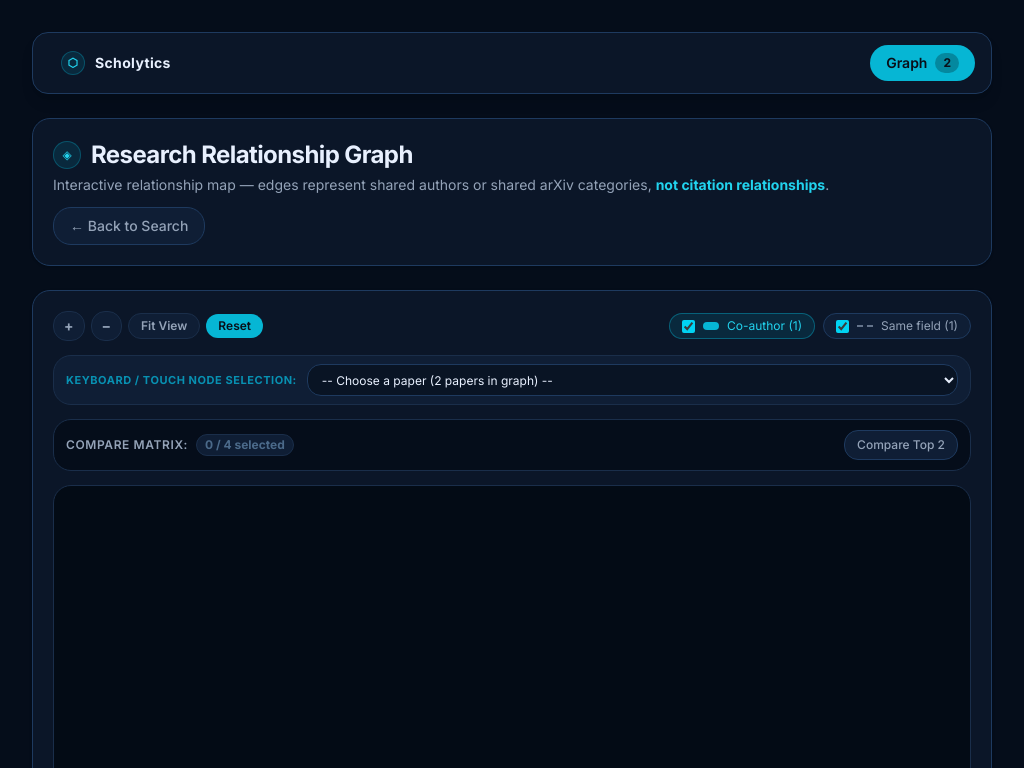
Test: Research Graph Page Workflows › allows keyboard and touch node selection through accessible dropdown selector
Select "[quant-ph] Quantum Supremacy Testing (arXiv:2301.00001)" in the dropdown named "Select paper in graph". click: {"x": 632, "y": 380}
box: [307,364,958,396]
(page scrolled)
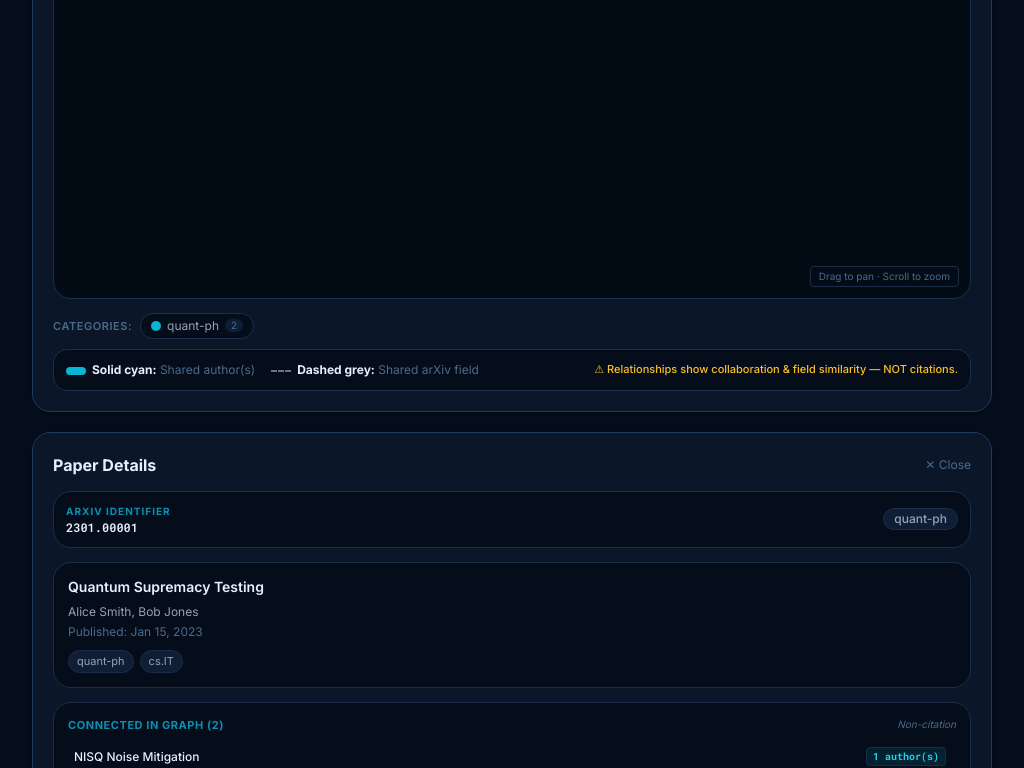
Check: the text "Connected in Graph (2)" is shown, box [68,716,224,733]
